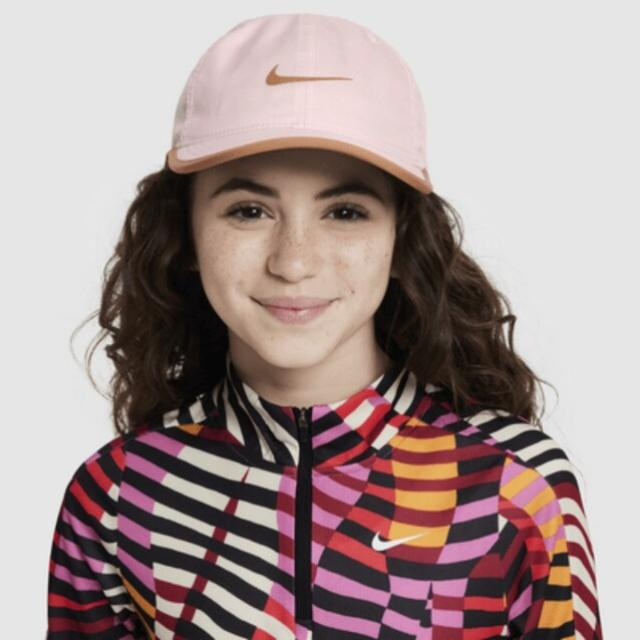Nonhelmet: (146, 3, 446, 380)
